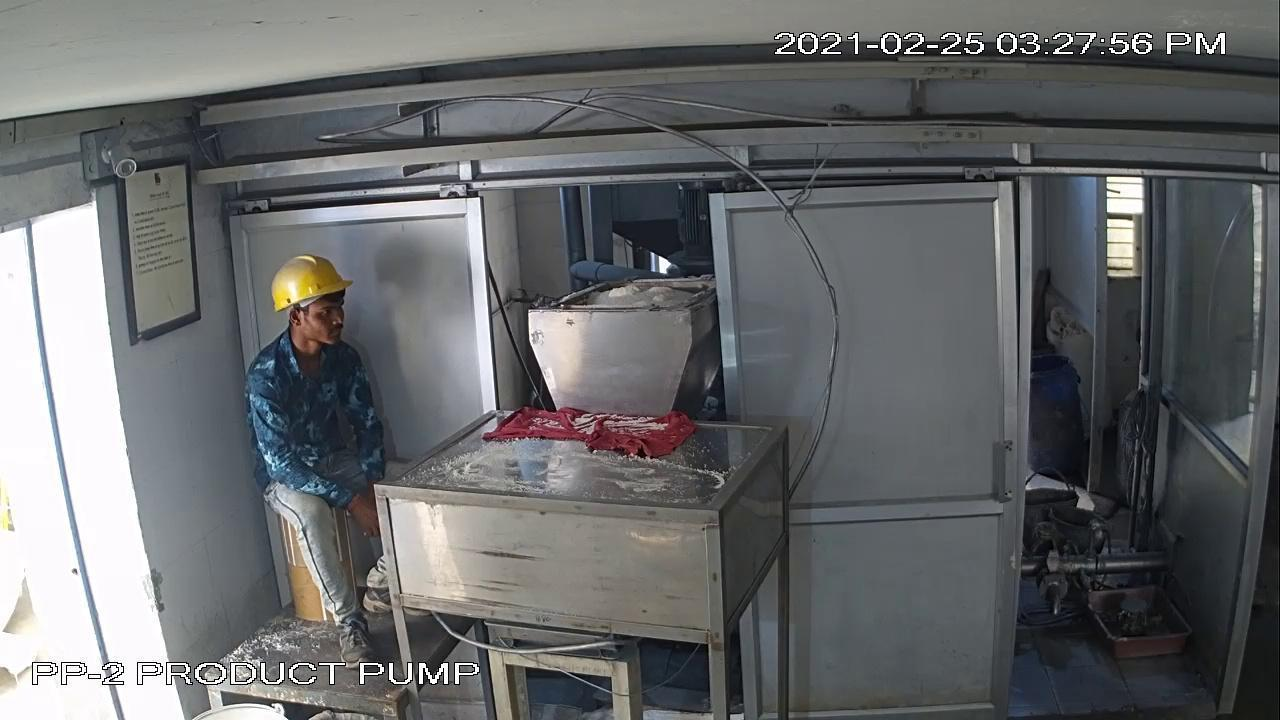helmet: (252, 252, 358, 315)
